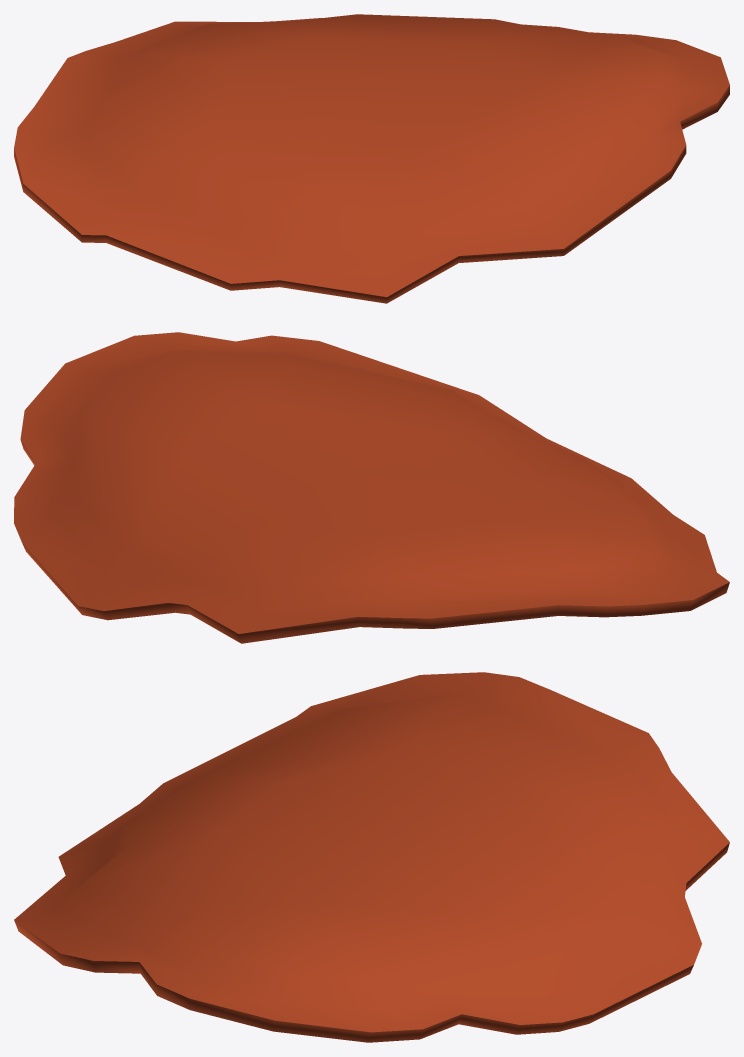
File: M_ShelfCoral_FlatFan02.fbx
3 renders of one model, top to bottom at view 1: azimuth 30°, elevation 25°; view 2: azimuth 150°, elevation 25°; view 3: azimuth 270°, elevation 25°, orthographic. The views are drawn at different scales.
Visible parts, largest first — view 1: shelfcoral_flatfan02; view 2: shelfcoral_flatfan02; view 3: shelfcoral_flatfan02.
Boxes of the visible parts, x1,y1,x2,y2 form: shelfcoral_flatfan02: [14, 14, 729, 303]; shelfcoral_flatfan02: [14, 332, 729, 643]; shelfcoral_flatfan02: [14, 672, 729, 1042].
Size of the model in its own units: 10.25 by 1.41 by 8.51.
